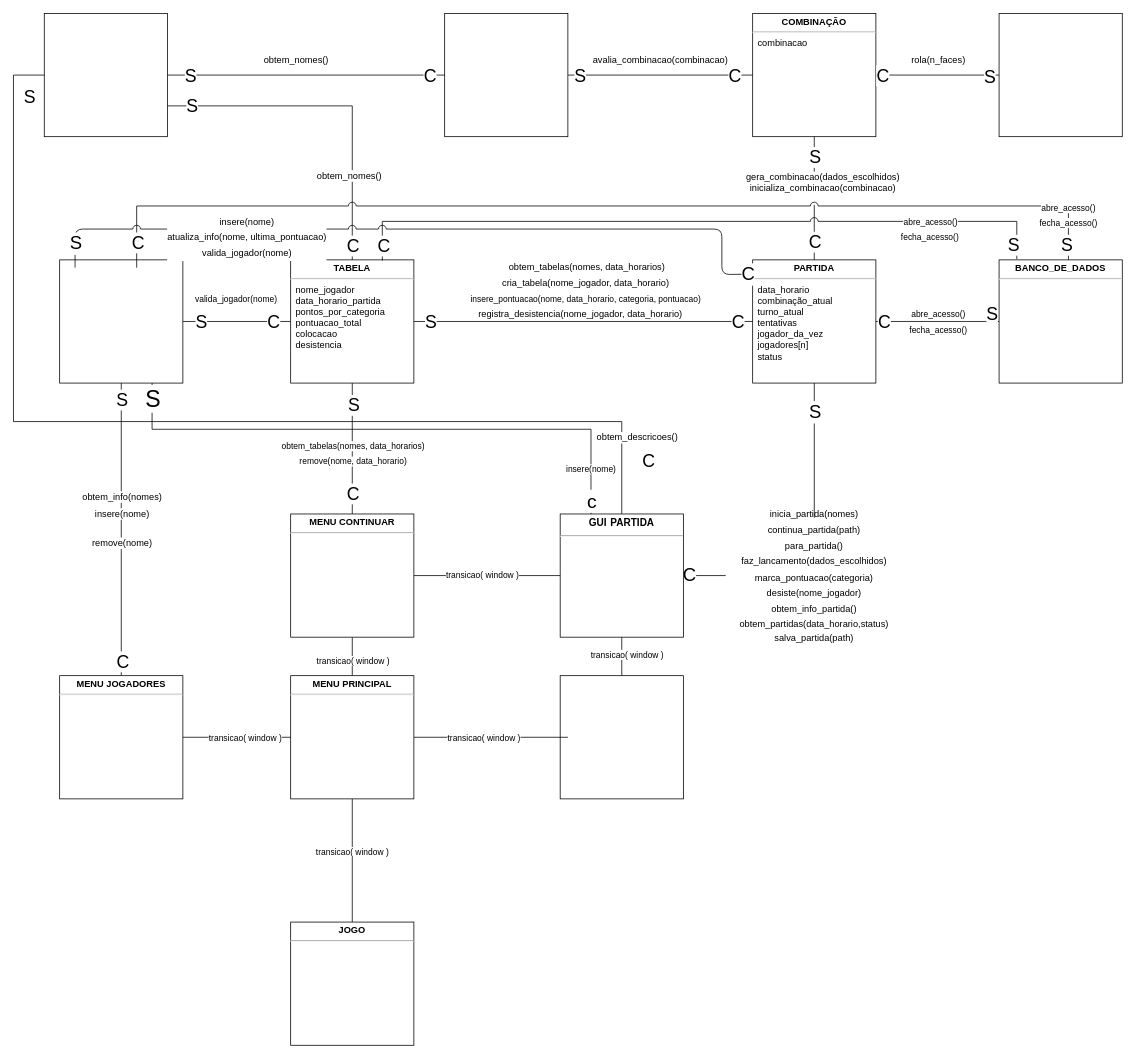
The diagram is 1136 pixels wide and 1059 high, and some of its shapes have lost their labels. Here are the shapes that lost their labels. From the top down, the box of each, then its label:
(44, 13, 167, 137): CATEGORIA nome descrição
(444, 13, 568, 137): AVALIA
(998, 13, 1122, 137): DADO
(59, 259, 183, 383): JOGADOR nome pontuação_total data_criação recorde posicao_ranking
(559, 675, 683, 799): MENU PARTIDA
